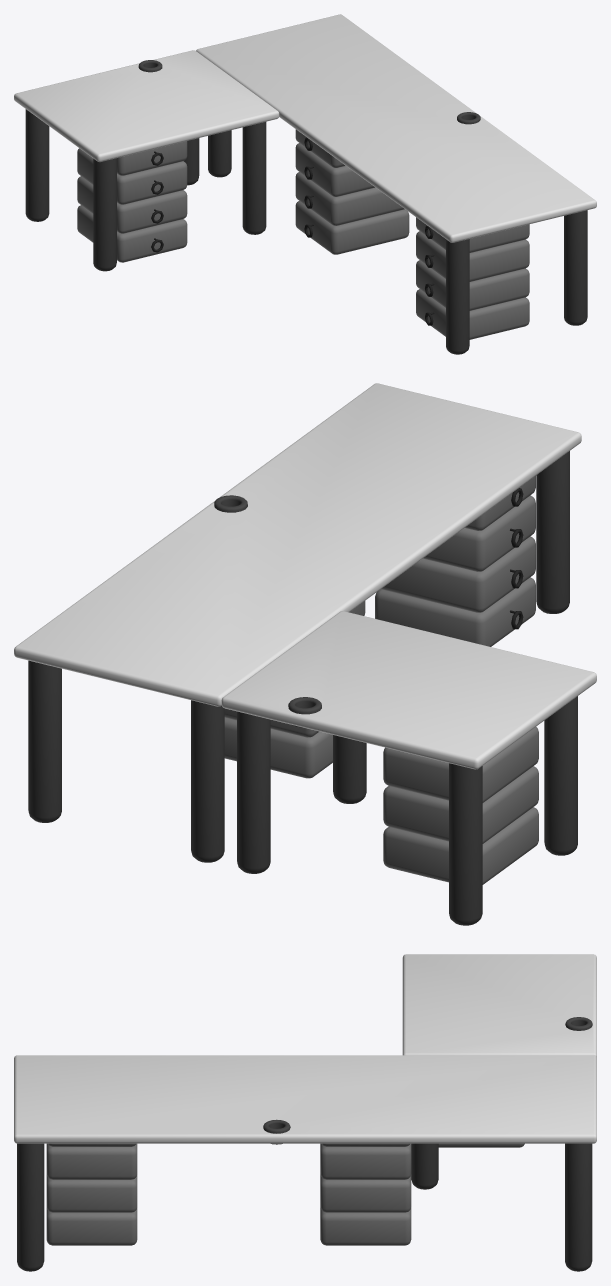
The model's file is Work Desk Big02.fbx.
3 renders of one model, top to bottom at view 1: azimuth 30°, elevation 25°; view 2: azimuth 150°, elevation 25°; view 3: azimuth 270°, elevation 25°, orthographic. The views are drawn at different scales.
Visible parts, largest first — view 1: Work Desk Big02; view 2: Work Desk Big02; view 3: Work Desk Big02.
Boxes of the visible parts, bbox=[...] form: Work Desk Big02: bbox=[14, 14, 596, 354]; Work Desk Big02: bbox=[14, 383, 596, 925]; Work Desk Big02: bbox=[14, 954, 596, 1271].
Size of the model in its own units: 1.62 by 2.18 by 0.5969.
